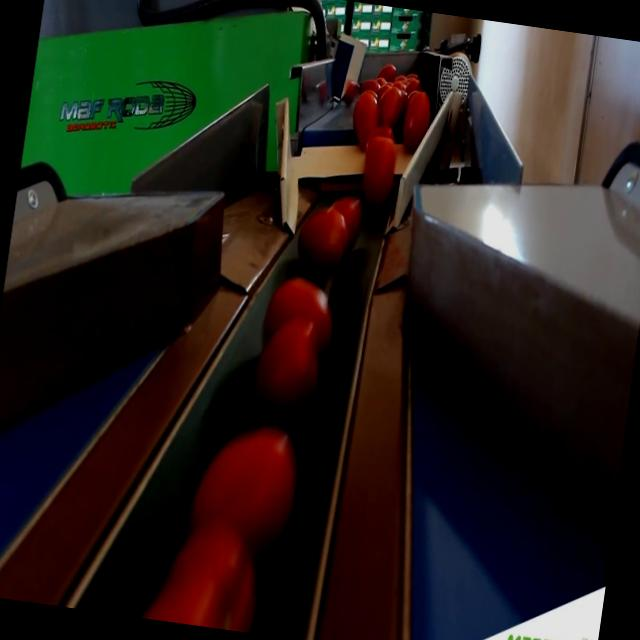Tomato: (188, 422, 300, 546), (152, 528, 263, 633), (253, 316, 323, 406), (262, 274, 335, 350), (290, 200, 350, 276), (357, 133, 401, 204), (398, 92, 433, 158), (326, 194, 364, 243), (349, 91, 381, 148), (378, 84, 404, 125), (378, 64, 398, 85)
